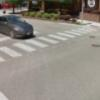crosswalks: (0, 25, 100, 65)
